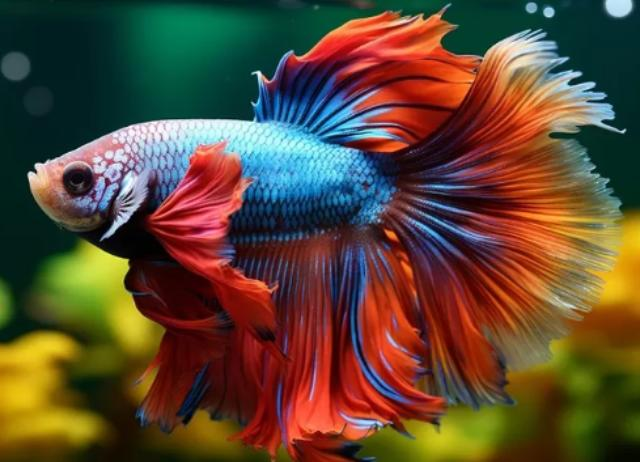Mulut: (14, 138, 66, 218)
Sirip Dada: (93, 158, 159, 258)
Sirip Ekor: (372, 19, 638, 423)
Sirip Punggung: (242, 0, 526, 178)
